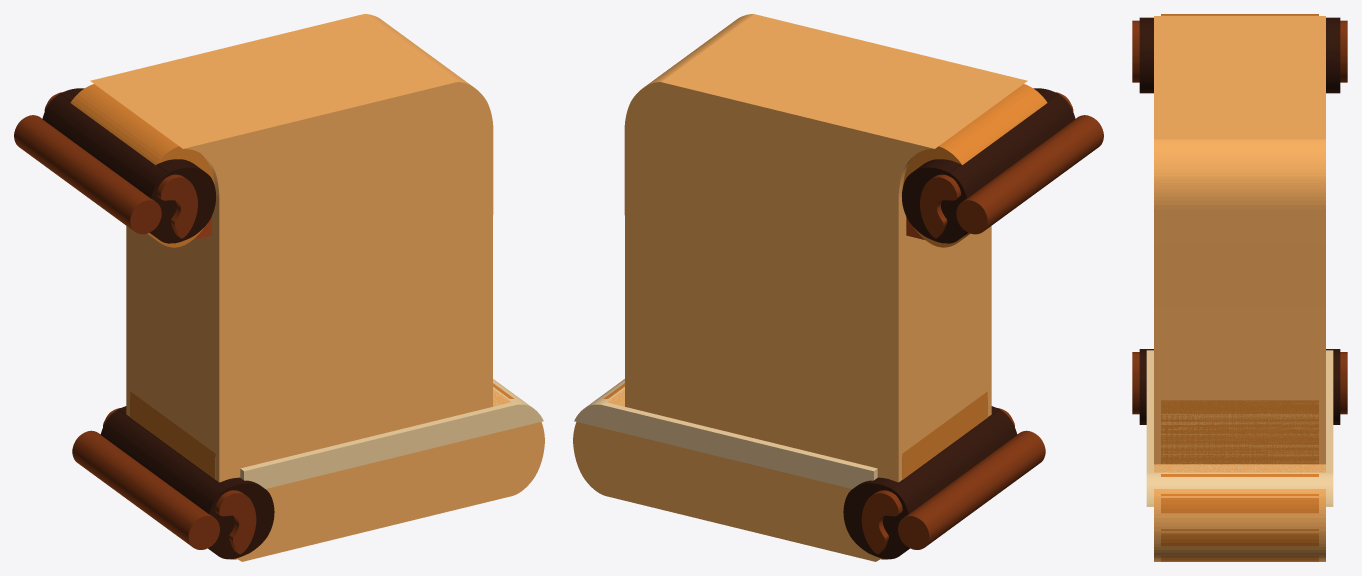
3 views of the same model, side by side, from view 1: azimuth 30°, elevation 25°; view 2: azimuth 150°, elevation 25°; view 3: azimuth 270°, elevation 25° (orthographic). The views are drawn at different scales.
Parts seen in each view (by area): view 1: U+1F4DC_layer02_obj00, U+1F4DC_layer03_obj00, U+1F4DC_layer05_obj01, U+1F4DC_layer05_obj00, U+1F4DC_layer04_obj01, U+1F4DC_layer04_obj02, U+1F4DC_layer01_obj02, U+1F4DC_layer01_obj03, U+1F4DC_layer04_obj00, U+1F4DC_layer04_obj03, U+1F4DC_layer05_obj02, U+1F4DC_layer05_obj03; view 2: U+1F4DC_layer02_obj00, U+1F4DC_layer03_obj00, U+1F4DC_layer05_obj01, U+1F4DC_layer05_obj00, U+1F4DC_layer04_obj01, U+1F4DC_layer04_obj02, U+1F4DC_layer01_obj02, U+1F4DC_layer01_obj03, U+1F4DC_layer04_obj00, U+1F4DC_layer04_obj03, U+1F4DC_layer05_obj02, U+1F4DC_layer05_obj03; view 3: U+1F4DC_layer02_obj00, U+1F4DC_layer01_obj03, U+1F4DC_layer01_obj01, U+1F4DC_layer03_obj00, U+1F4DC_layer04_obj00, U+1F4DC_layer04_obj03, U+1F4DC_layer05_obj02, U+1F4DC_layer05_obj03, U+1F4DC_layer01_obj02.
Boxes of the visible parts, bbox=[...] form: U+1F4DC_layer02_obj00: bbox=[90, 14, 544, 561]; U+1F4DC_layer03_obj00: bbox=[240, 379, 543, 488]; U+1F4DC_layer05_obj01: bbox=[14, 115, 161, 234]; U+1F4DC_layer05_obj00: bbox=[72, 430, 219, 549]; U+1F4DC_layer04_obj01: bbox=[100, 409, 250, 559]; U+1F4DC_layer04_obj02: bbox=[42, 94, 192, 243]; U+1F4DC_layer01_obj02: bbox=[70, 84, 214, 247]; U+1F4DC_layer01_obj03: bbox=[130, 391, 215, 479]; U+1F4DC_layer04_obj00: bbox=[60, 88, 216, 243]; U+1F4DC_layer04_obj03: bbox=[118, 406, 274, 558]; U+1F4DC_layer05_obj02: bbox=[103, 408, 256, 554]; U+1F4DC_layer05_obj03: bbox=[44, 92, 197, 238]; U+1F4DC_layer02_obj00: bbox=[573, 14, 1027, 561]; U+1F4DC_layer03_obj00: bbox=[574, 379, 877, 488]; U+1F4DC_layer05_obj01: bbox=[956, 115, 1103, 234]; U+1F4DC_layer05_obj00: bbox=[898, 430, 1045, 549]; U+1F4DC_layer04_obj01: bbox=[865, 409, 1017, 559]; U+1F4DC_layer04_obj02: bbox=[924, 94, 1075, 243]; U+1F4DC_layer01_obj02: bbox=[903, 84, 1047, 247]; U+1F4DC_layer01_obj03: bbox=[902, 391, 987, 479]; U+1F4DC_layer04_obj00: bbox=[901, 88, 1057, 243]; U+1F4DC_layer04_obj03: bbox=[843, 406, 999, 558]; U+1F4DC_layer05_obj02: bbox=[861, 408, 1014, 554]; U+1F4DC_layer05_obj03: bbox=[920, 92, 1073, 238]; U+1F4DC_layer02_obj00: bbox=[1154, 16, 1325, 561]; U+1F4DC_layer01_obj03: bbox=[1161, 400, 1318, 464]; U+1F4DC_layer01_obj01: bbox=[1161, 474, 1318, 561]; U+1F4DC_layer03_obj00: bbox=[1146, 350, 1333, 506]; U+1F4DC_layer04_obj00: bbox=[1139, 17, 1340, 93]; U+1F4DC_layer04_obj03: bbox=[1139, 349, 1340, 424]; U+1F4DC_layer05_obj02: bbox=[1132, 352, 1347, 414]; U+1F4DC_layer05_obj03: bbox=[1132, 20, 1347, 82]; U+1F4DC_layer01_obj02: bbox=[1161, 14, 1318, 15].
Size of the model in its own units: 0.3174 by 0.3042 by 0.15.
